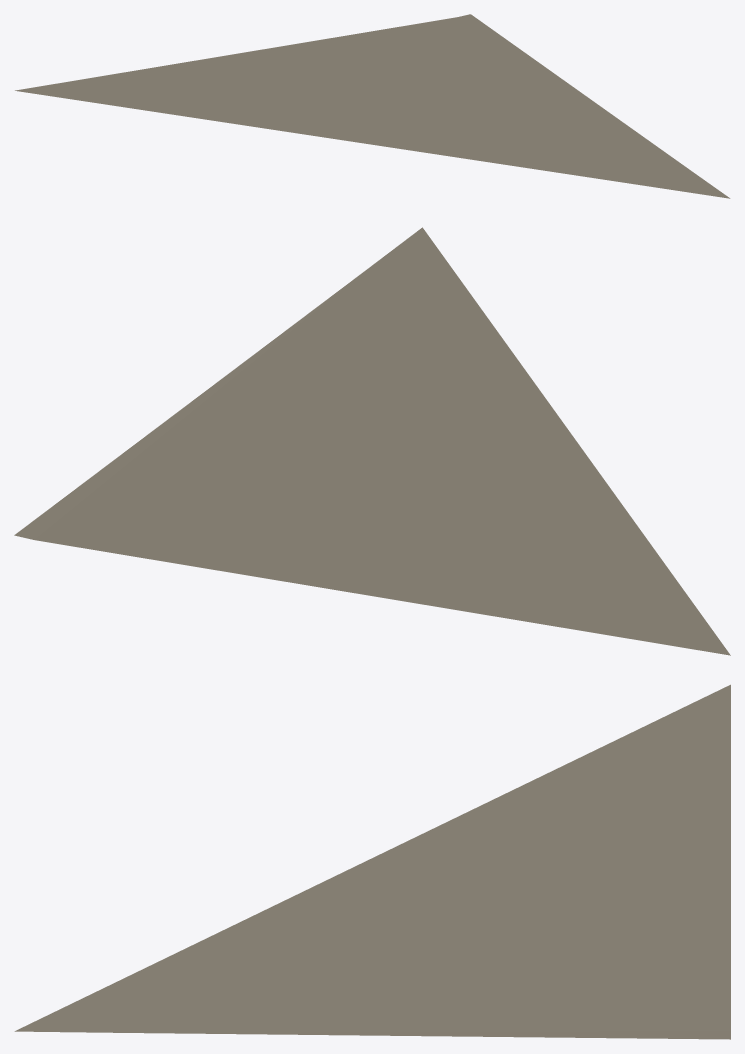
3 renders of one model, top to bottom at view 1: azimuth 30°, elevation 25°; view 2: azimuth 150°, elevation 25°; view 3: azimuth 270°, elevation 25°, orthographic. The views are drawn at different scales.
Size of the model in its own units: 0.2177 by 0.0159 by 0.2149.
Materials: 1 (1 with a texture image).
